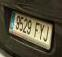2: (23, 17, 27, 34)
5: (20, 15, 23, 32)
9: (27, 19, 32, 35), (16, 15, 20, 30)
F: (34, 22, 40, 38)
J: (43, 26, 49, 41)
Y: (39, 23, 45, 40)
